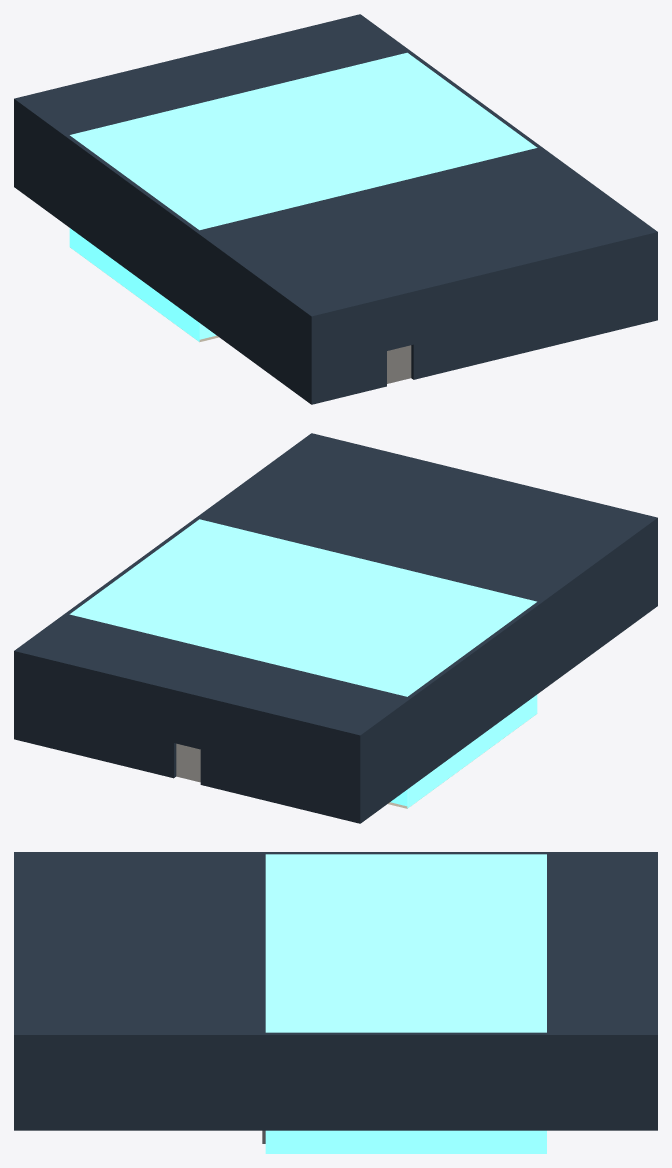
The model's file is aquarium.glb.
3 renders of one model, top to bottom at view 1: azimuth 30°, elevation 25°; view 2: azimuth 150°, elevation 25°; view 3: azimuth 270°, elevation 25°, orthographic. The views are drawn at different scales.
Visible parts, largest first — view 1: aquarium, aquarium_lit; view 2: aquarium, aquarium_lit; view 3: aquarium, aquarium_lit.
Part boxes in pixels (x1=…): aquarium: x1=14, y1=14, x2=657, y2=404; aquarium_lit: x1=69, y1=52, x2=537, y2=341; aquarium: x1=14, y1=433, x2=657, y2=823; aquarium_lit: x1=69, y1=519, x2=537, y2=808; aquarium: x1=14, y1=852, x2=657, y2=1143; aquarium_lit: x1=265, y1=854, x2=546, y2=1153.
Size of the model in its own units: 24.6 by 7.63 by 36.6.
